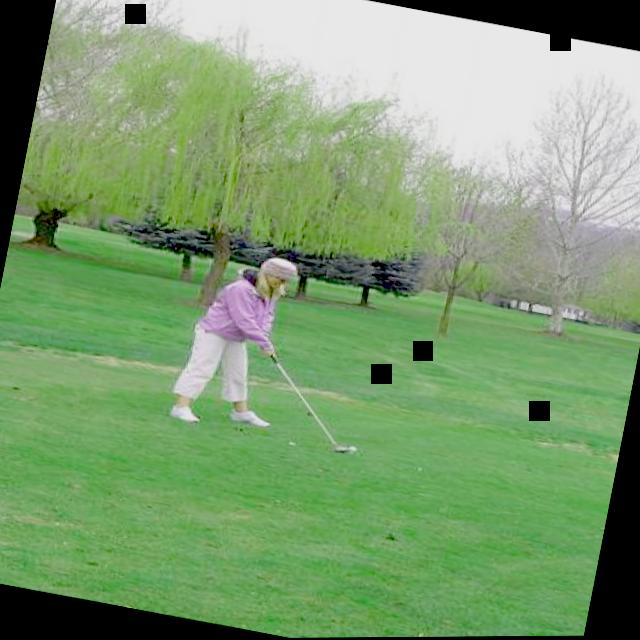golf ball: (348, 445, 360, 454)
